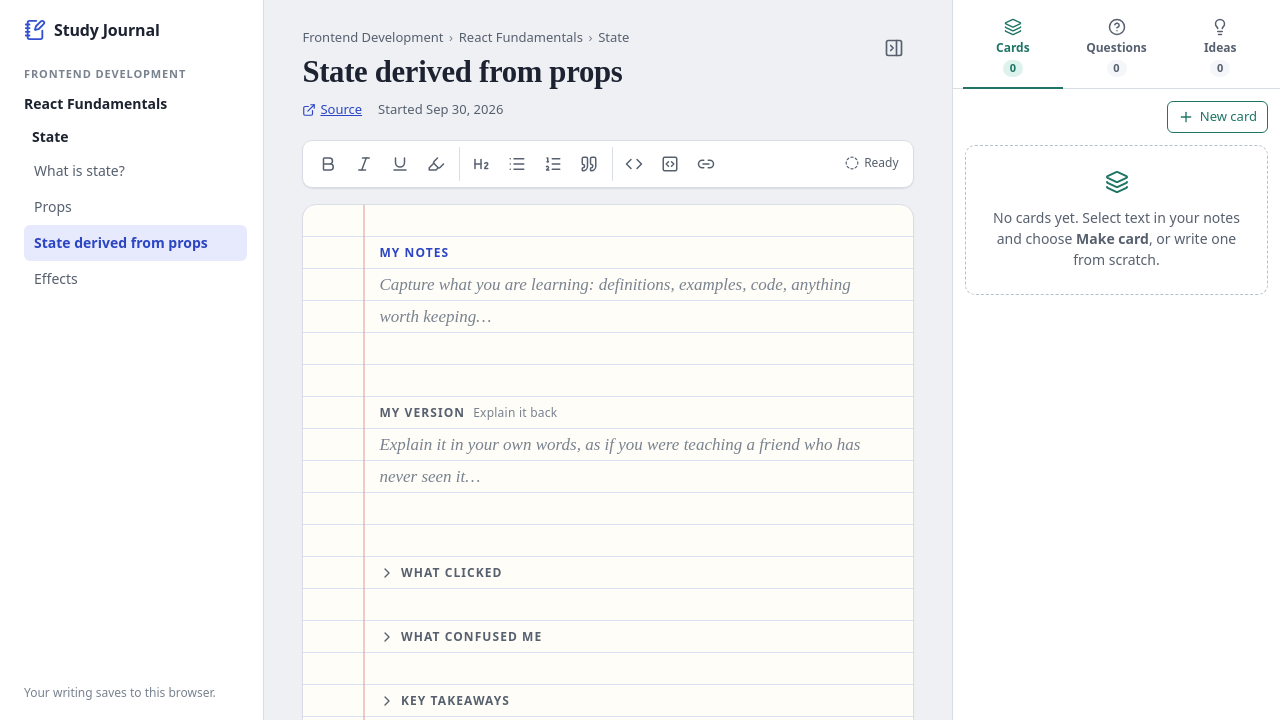
Test: JournalPage › collapses the rail, widens the notebook, and keeps the objects when reopened
Expected: the heading "State derived from props" is shown, [302,54,629,90]
Click the button "New card" at (1217, 117), box [1167,101,1268,133]
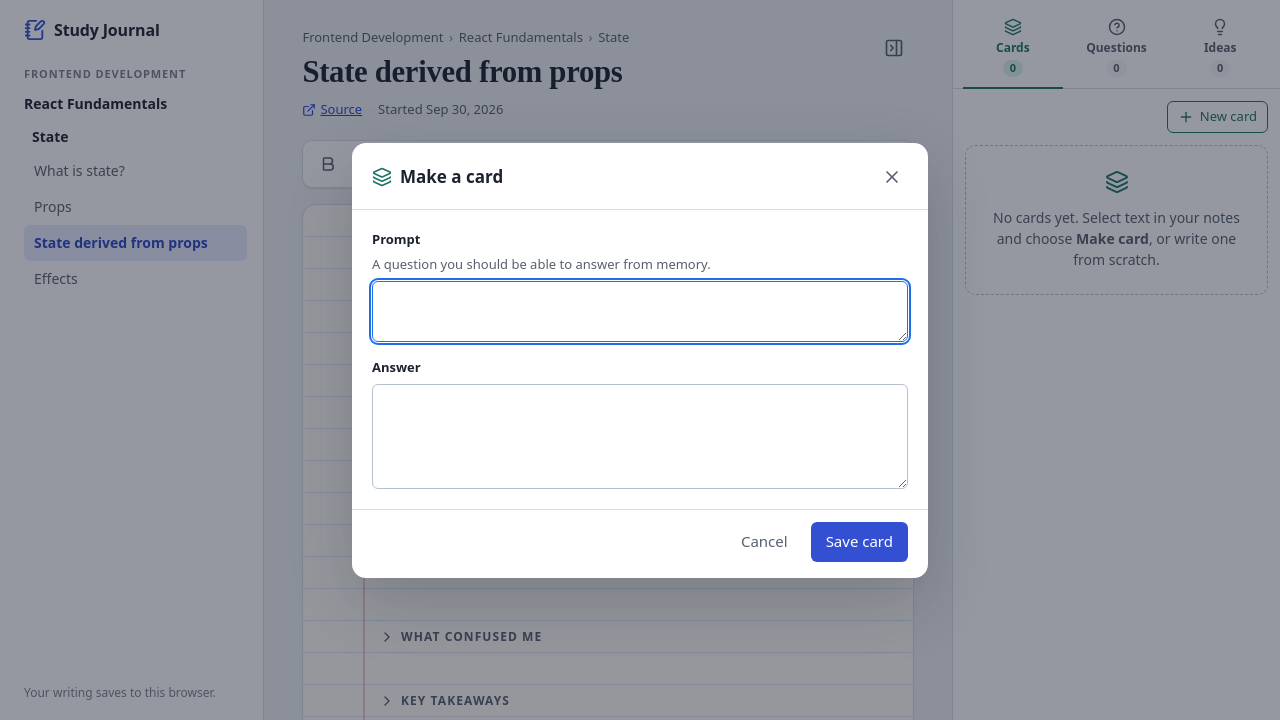
Type "Prompt" into the text box labelled "Prompt" at (640, 311), box [372,280,908,342]
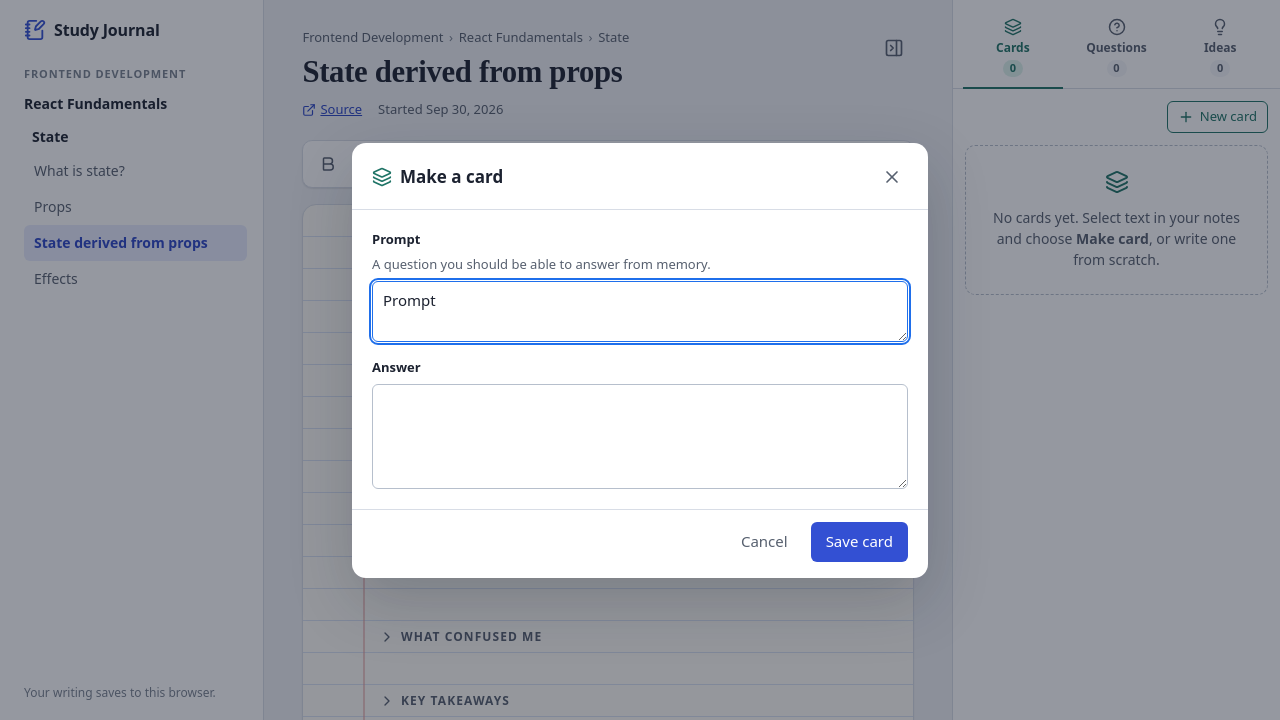
Type "Answer" into the text box labelled "Answer" at (640, 436), box [372,384,908,488]
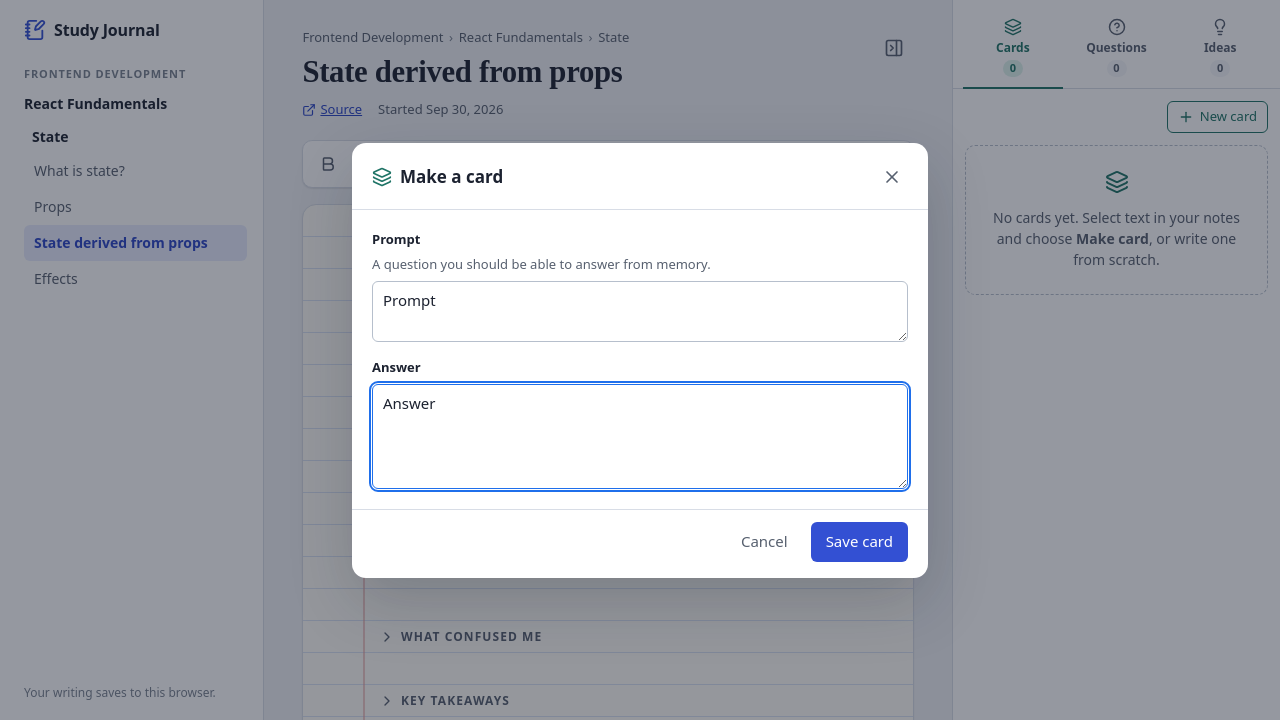
Click the button "Save card" at (859, 542), box [811,522,908,562]
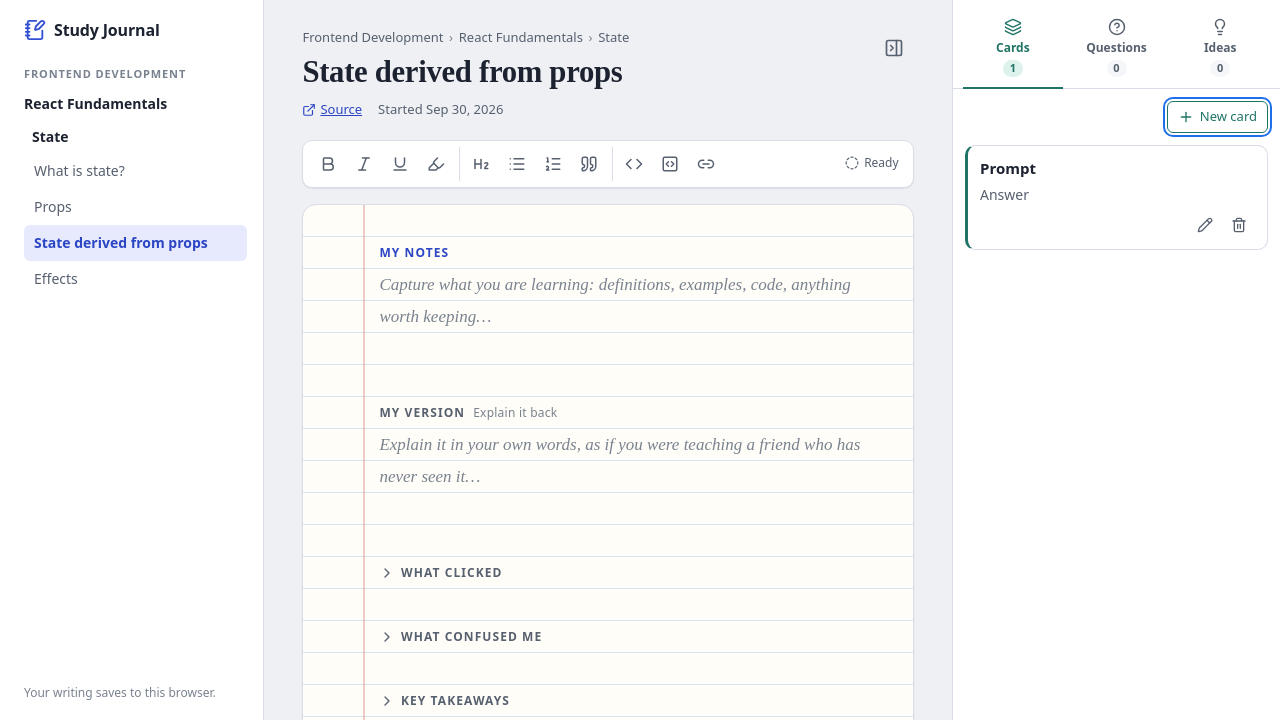
Click the button named "Hide study context" at (894, 48), box [874,28,914,68]
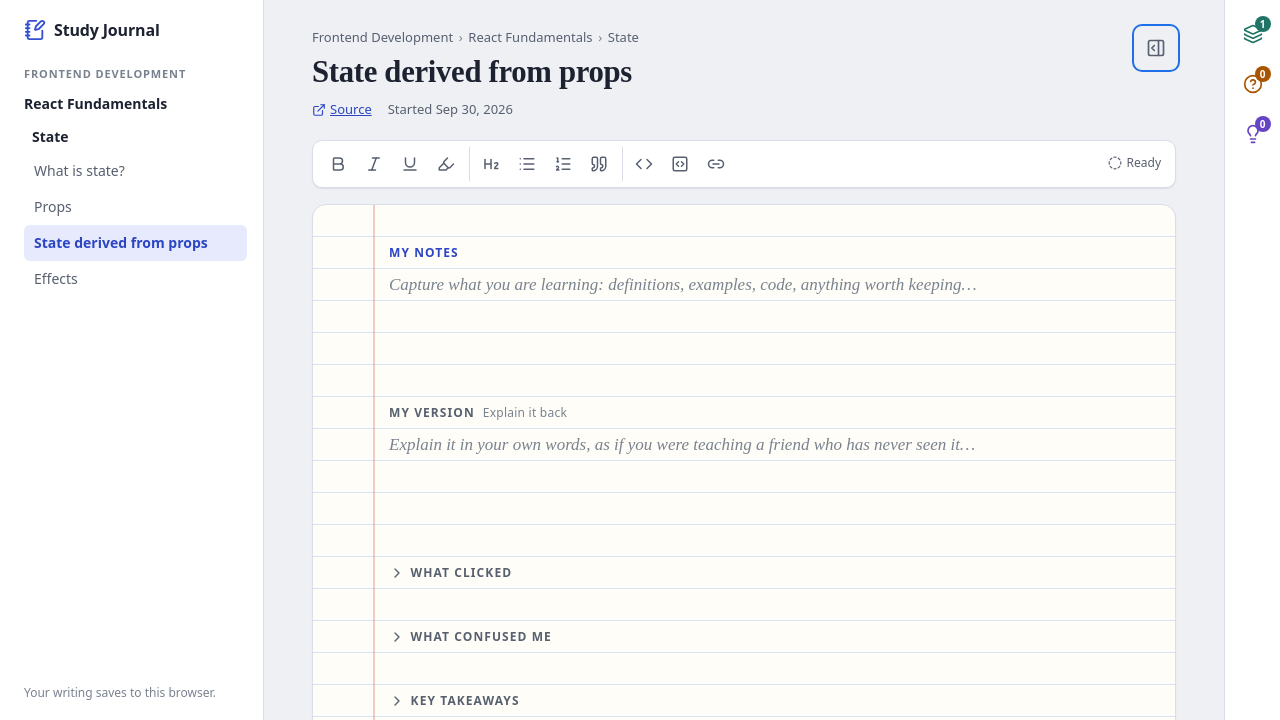
Expected: the button named "Show study context" is collapsed, [1136,28,1176,68]
Click the button named "Show cards (1)" at (1252, 34), box [1230,12,1274,56]
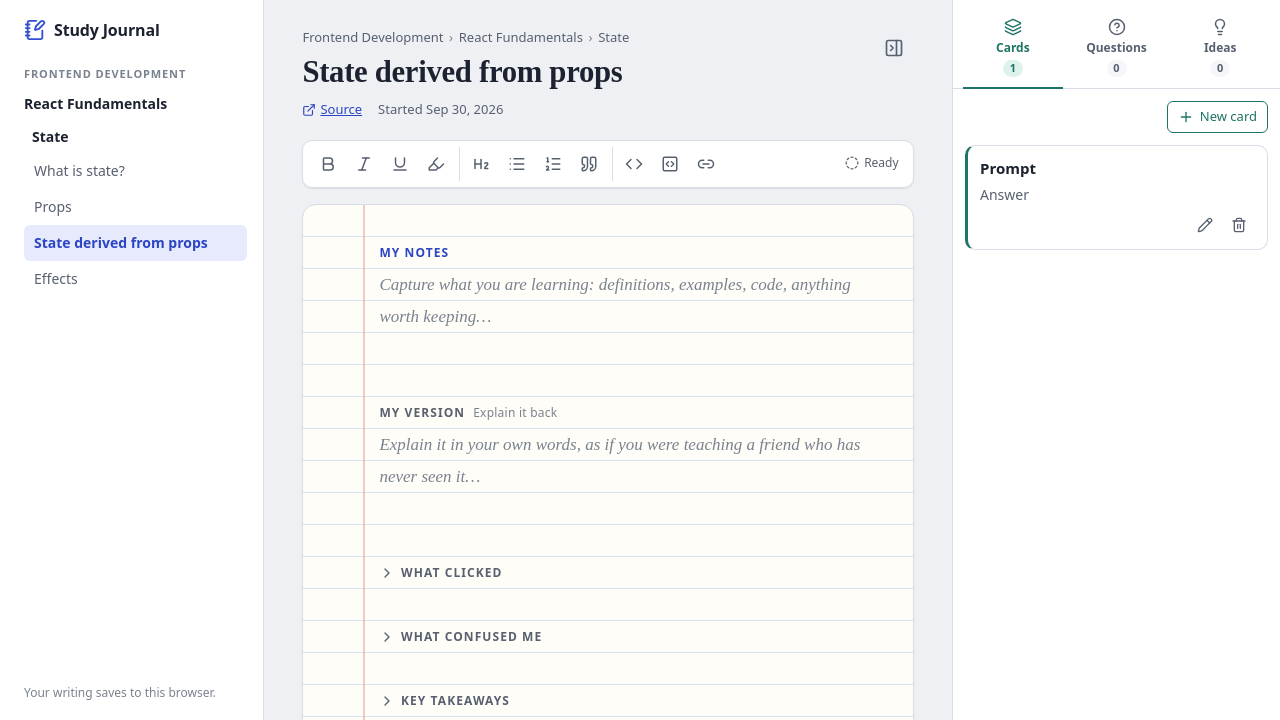
Expected: the element named "card: Prompt" is shown, [965,145,1268,250]
